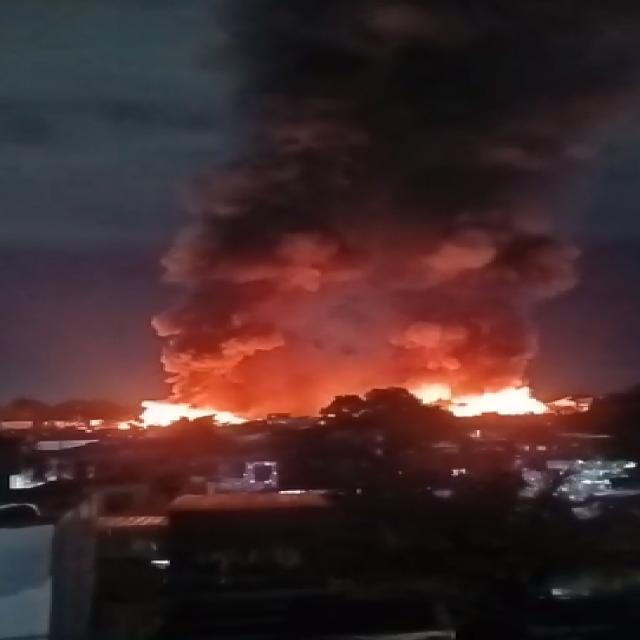Fire: (407, 381, 554, 415), (125, 398, 252, 432)
Smoke: (171, 1, 545, 405)
